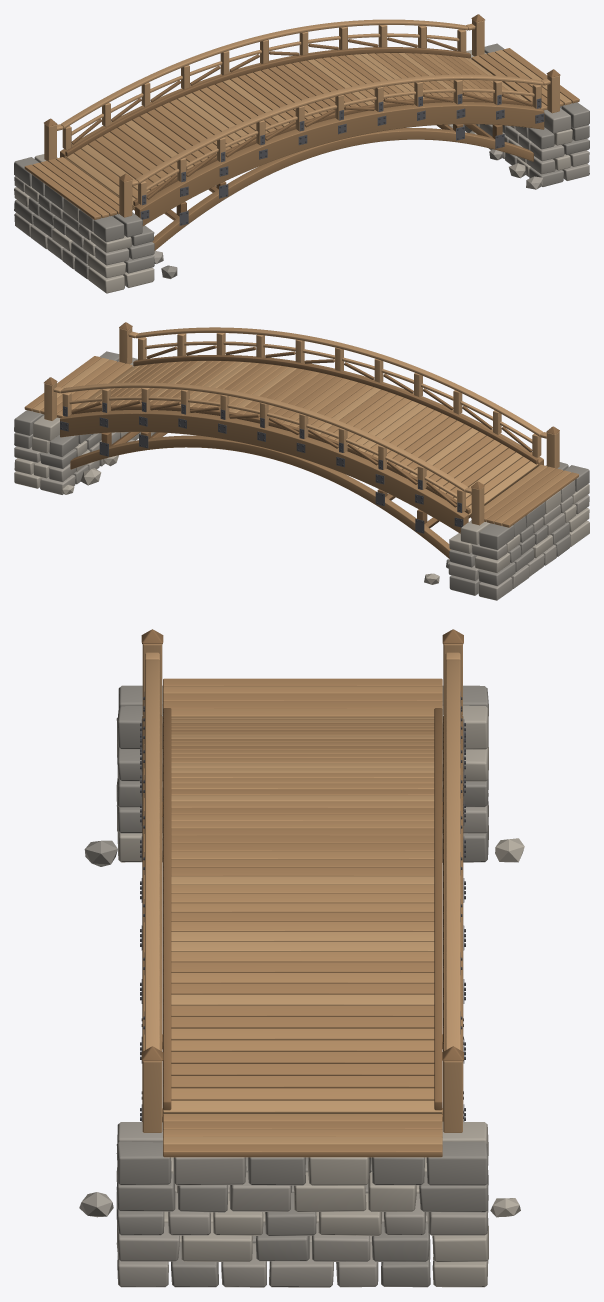
The model's file is Jembatan Masa Depan.fbx.
3 renders of one model, top to bottom at view 1: azimuth 30°, elevation 25°; view 2: azimuth 150°, elevation 25°; view 3: azimuth 270°, elevation 25°, orthographic. The views are drawn at different scales.
Visible parts, largest first — view 1: BR_Deck_Planks, BR_Abutment_West, BR_Beam_Main_R, BR_Rail_Handrails, BR_Abutment_East, BR_Sub_ArchRib_R, BR_Rail_Posts, BR_Deck_WheelGuards, BR_Rail_MidRails, BR_Rail_DiagonalBraces, BR_Rail_NewelPosts, BR_HW_SteelPlates (+3 smaller); view 2: BR_Deck_Planks, BR_Abutment_West, BR_Beam_Main_L, BR_Rail_Handrails, BR_Abutment_East, BR_Sub_ArchRib_L, BR_Rail_Posts, BR_Deck_WheelGuards, BR_Rail_MidRails, BR_Rail_DiagonalBraces, BR_Rail_NewelPosts, BR_HW_SteelPlates (+3 smaller); view 3: BR_Deck_Planks, BR_Abutment_East, BR_Rail_Handrails, BR_Abutment_West, BR_Deck_WheelGuards, BR_Rail_NewelPosts, BR_Abutment_Boulders, BR_Beam_Main_L, BR_Beam_Main_R, BR_HW_SteelPlates, BR_HW_Bolts.
Boxes of the visible parts, x1,y1,x2,y2 form: BR_Deck_Planks: (24, 48, 579, 219); BR_Abutment_West: (14, 154, 154, 293); BR_Beam_Main_R: (135, 102, 544, 226); BR_Rail_Handrails: (57, 19, 550, 185); BR_Abutment_East: (463, 43, 589, 186); BR_Sub_ArchRib_R: (152, 128, 533, 250); BR_Rail_Posts: (62, 25, 541, 204); BR_Deck_WheelGuards: (65, 47, 532, 206); BR_Rail_MidRails: (71, 33, 534, 190); BR_Rail_DiagonalBraces: (71, 37, 532, 199); BR_Rail_NewelPosts: (44, 14, 560, 217); BR_HW_SteelPlates: (140, 94, 543, 225); BR_Deck_Planks: (24, 356, 578, 527); BR_Abutment_West: (448, 462, 589, 600); BR_Beam_Main_L: (60, 410, 468, 533); BR_Rail_Handrails: (53, 327, 546, 493); BR_Abutment_East: (14, 351, 140, 494); BR_Sub_ArchRib_L: (70, 435, 450, 558); BR_Rail_Posts: (62, 333, 541, 512); BR_Deck_WheelGuards: (71, 355, 538, 514); BR_Rail_MidRails: (69, 341, 532, 498); BR_Rail_DiagonalBraces: (71, 345, 532, 507); BR_Rail_NewelPosts: (44, 322, 559, 525); BR_HW_SteelPlates: (60, 402, 463, 533); BR_Deck_Planks: (163, 678, 442, 1157); BR_Abutment_East: (116, 1122, 488, 1287); BR_Rail_Handrails: (145, 652, 460, 1049); BR_Abutment_West: (116, 685, 488, 862); BR_Deck_WheelGuards: (163, 708, 442, 1110); BR_Rail_NewelPosts: (141, 629, 463, 1132); BR_Abutment_Boulders: (79, 838, 524, 1217); BR_Beam_Main_L: (443, 714, 463, 1121); BR_Beam_Main_R: (142, 714, 162, 1121); BR_HW_SteelPlates: (141, 692, 464, 1121); BR_HW_Bolts: (140, 697, 465, 1120).
Size of the model in its own units: 1918 by 520 by 763.
